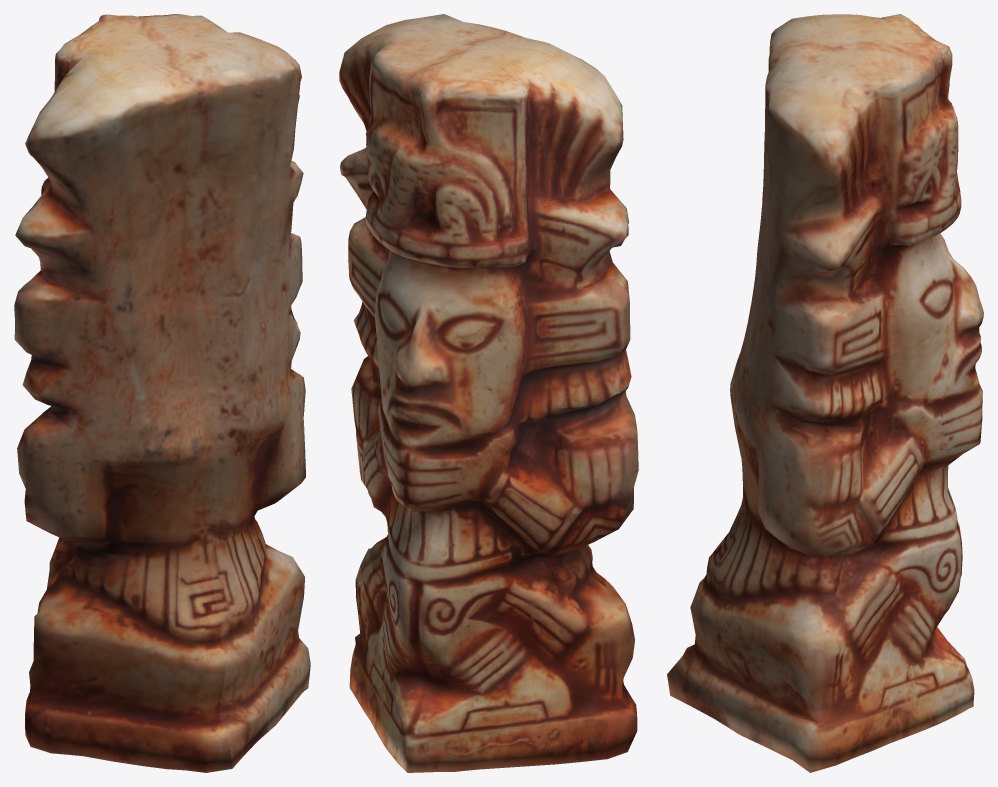
File: MayanFigure.fbx
3 renders of one model, left to right at view 1: azimuth 30°, elevation 25°; view 2: azimuth 150°, elevation 25°; view 3: azimuth 270°, elevation 25°, orthographic. The views are drawn at different scales.
Parts seen in each view (by area): view 1: default1; view 2: default1; view 3: default1.
Part boxes in pixels (x1=…): default1: x1=14, y1=14, x2=310, y2=772; default1: x1=339, y1=14, x2=638, y2=772; default1: x1=667, y1=14, x2=983, y2=772.
Size of the model in its own units: 4.34 by 9.75 by 4.2.
1 material, 1 textured.
